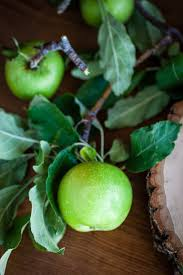apple: (56, 166, 133, 231), (9, 37, 68, 97)
